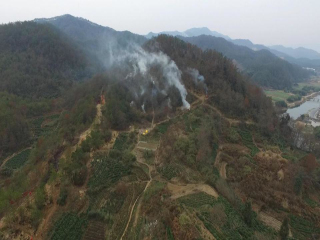smoke: (107, 37, 206, 113)
